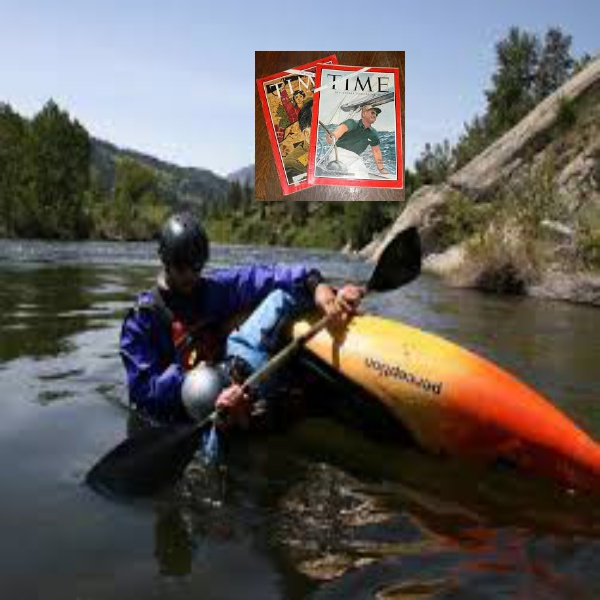time_cover: (252, 40, 416, 198)
